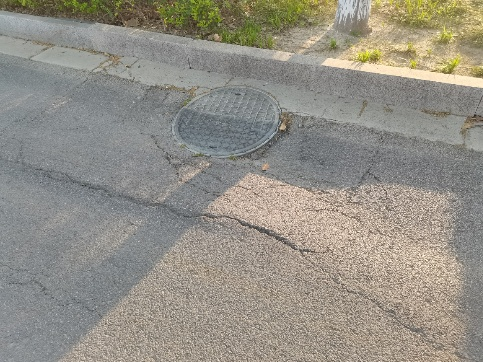good: (171, 84, 282, 159)
